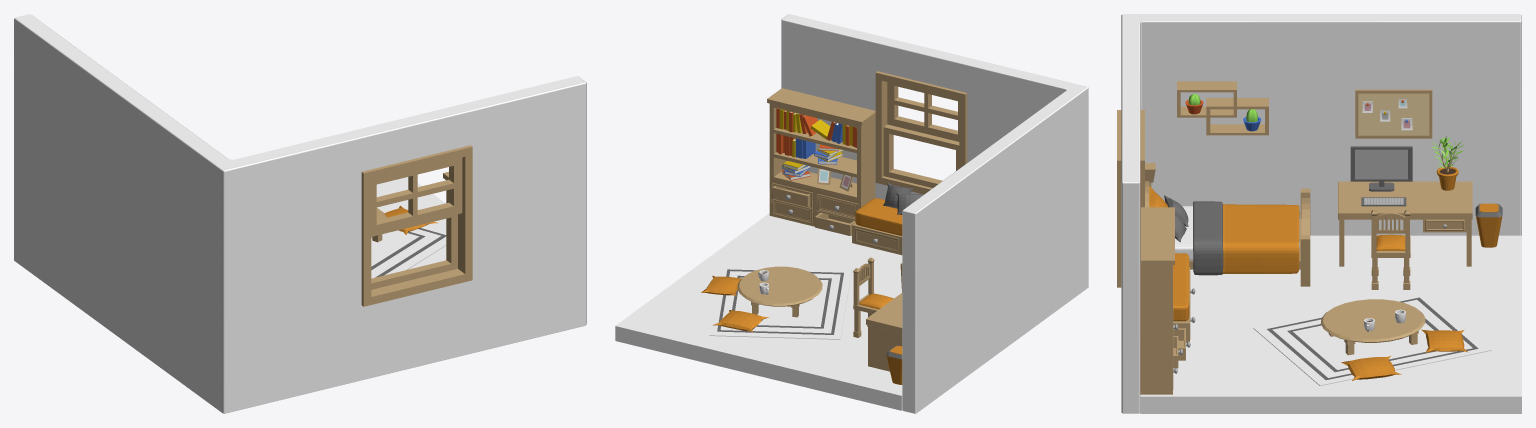
Rendered from hello-room.glb.
3 views of the same model, side by side, from view 1: azimuth 30°, elevation 25°; view 2: azimuth 150°, elevation 25°; view 3: azimuth 270°, elevation 25° (orthographic). The views are drawn at different scales.
Visible parts, largest first — view 1: Window; view 2: Window; view 3: Window.
Boxes of the visible parts, left/top/right/bottom form: Window: left=14, top=14, right=586, bottom=413; Window: left=615, top=14, right=1088, bottom=413; Window: left=1117, top=14, right=1521, bottom=413.
Bounding box in the file's own units: 8.4 × 5.37 × 8.49.
